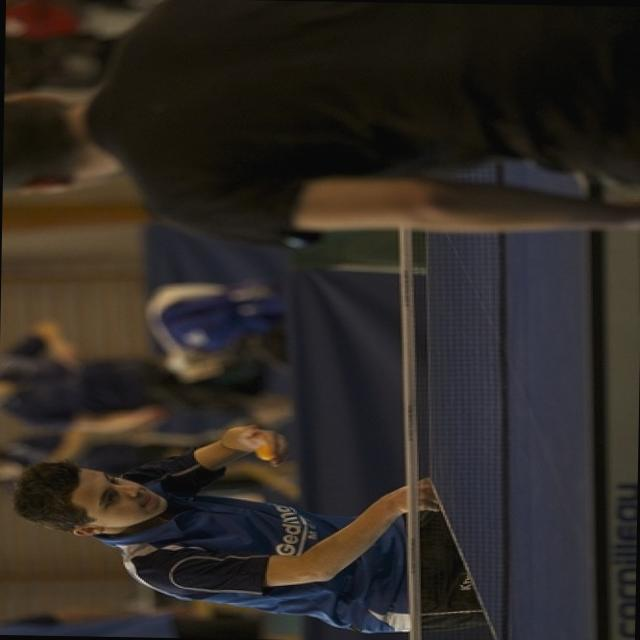TT Net: (395, 161, 513, 640)
TT Table: (424, 154, 599, 640)
